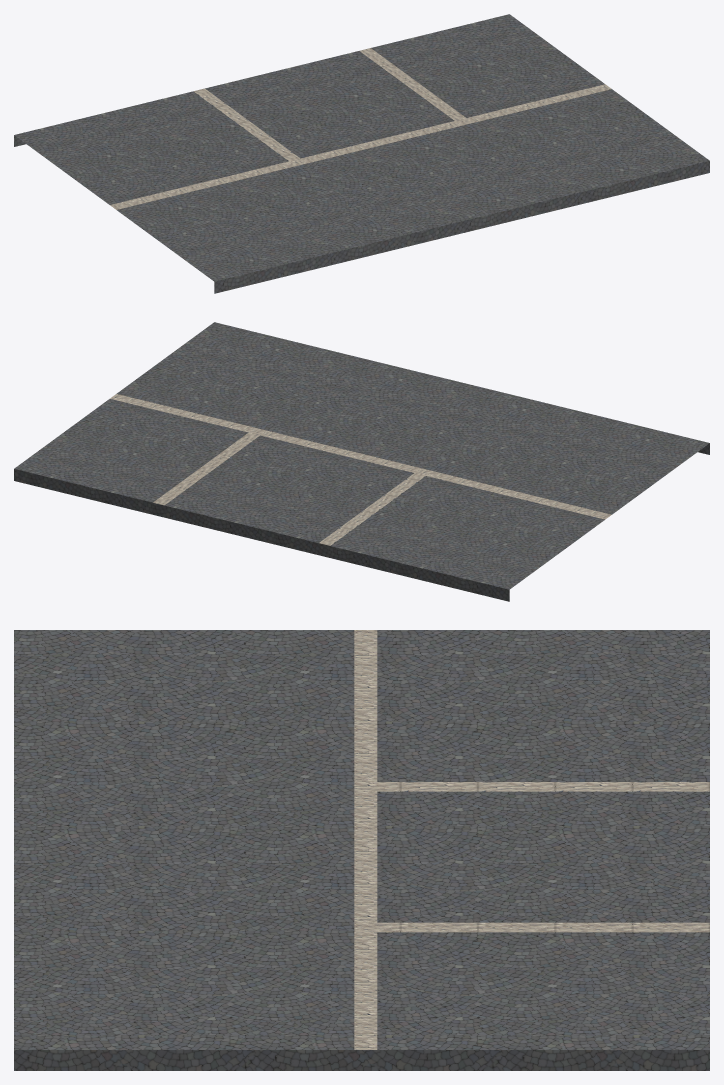
File: SM_Pav_FasciaPalme_Fine.fbx
3 views of the same model, one above another, from view 1: azimuth 30°, elevation 25°; view 2: azimuth 150°, elevation 25°; view 3: azimuth 270°, elevation 25° (orthographic). The views are drawn at different scales.
Parts seen in each view (by area): view 1: SM_Pav_FasciaPalme_Fine; view 2: SM_Pav_FasciaPalme_Fine; view 3: SM_Pav_FasciaPalme_Fine.
Part boxes in pixels (x1=…): SM_Pav_FasciaPalme_Fine: x1=14, y1=14, x2=709, y2=293; SM_Pav_FasciaPalme_Fine: x1=14, y1=322, x2=709, y2=601; SM_Pav_FasciaPalme_Fine: x1=14, y1=630, x2=709, y2=1070.
Size of what is drawn, in the model's own units: 1285 by 900 by 30.
Materials: 2 (2 with a texture image).
